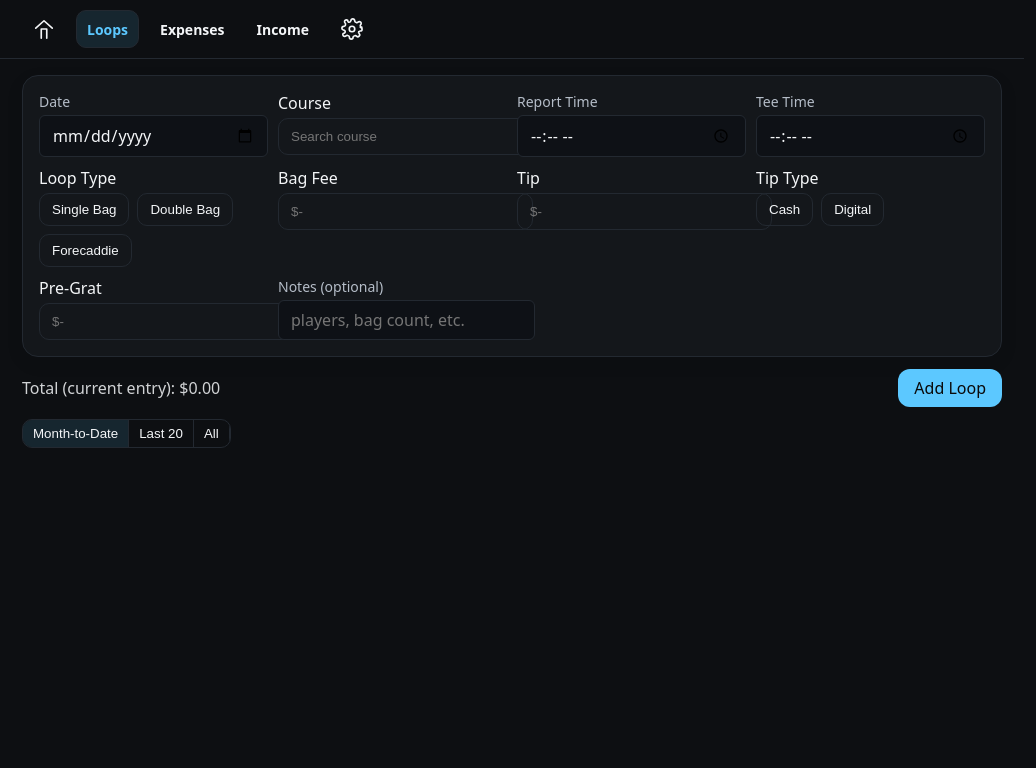
Test: Base UI contract › persists loops/expenses/income/settings
The width and height of the screenshot is (1036, 768).
Check: the button "Add Loop" is shown, box [898,369,1002,407]
Click the link "Expenses" at {"x": 192, "y": 29}, box [160,20,225,38]
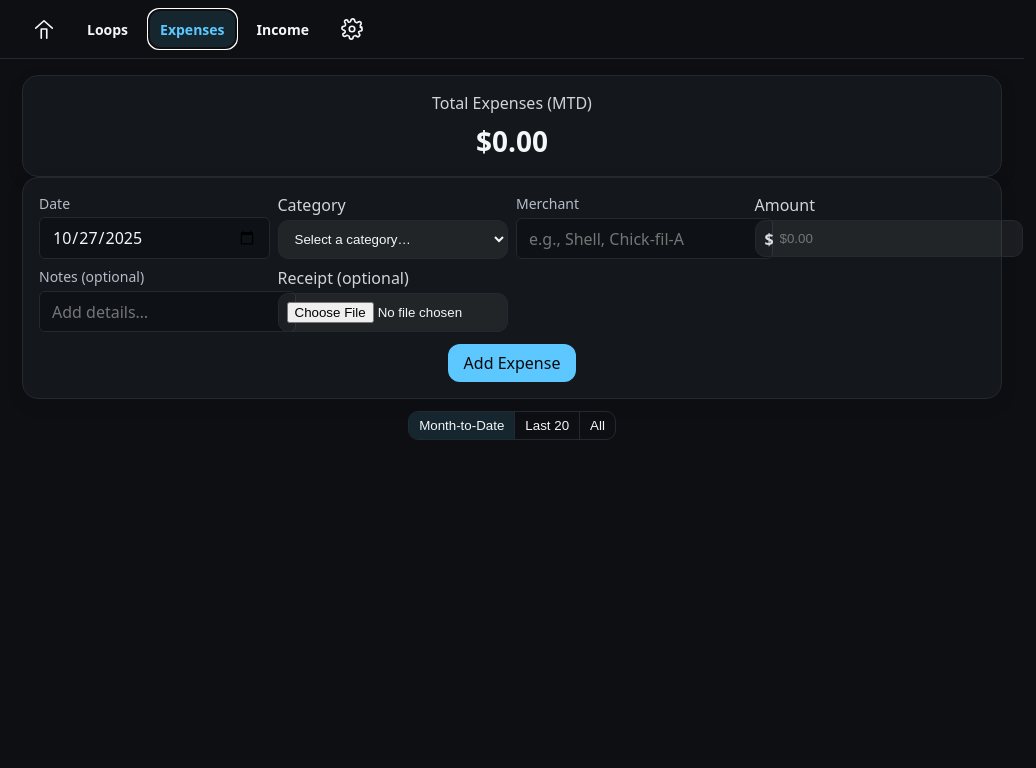
Check: the button "Add Expense" is shown, box [448,344,576,382]
Click the link "Income" at {"x": 283, "y": 29}, box [256,20,309,38]
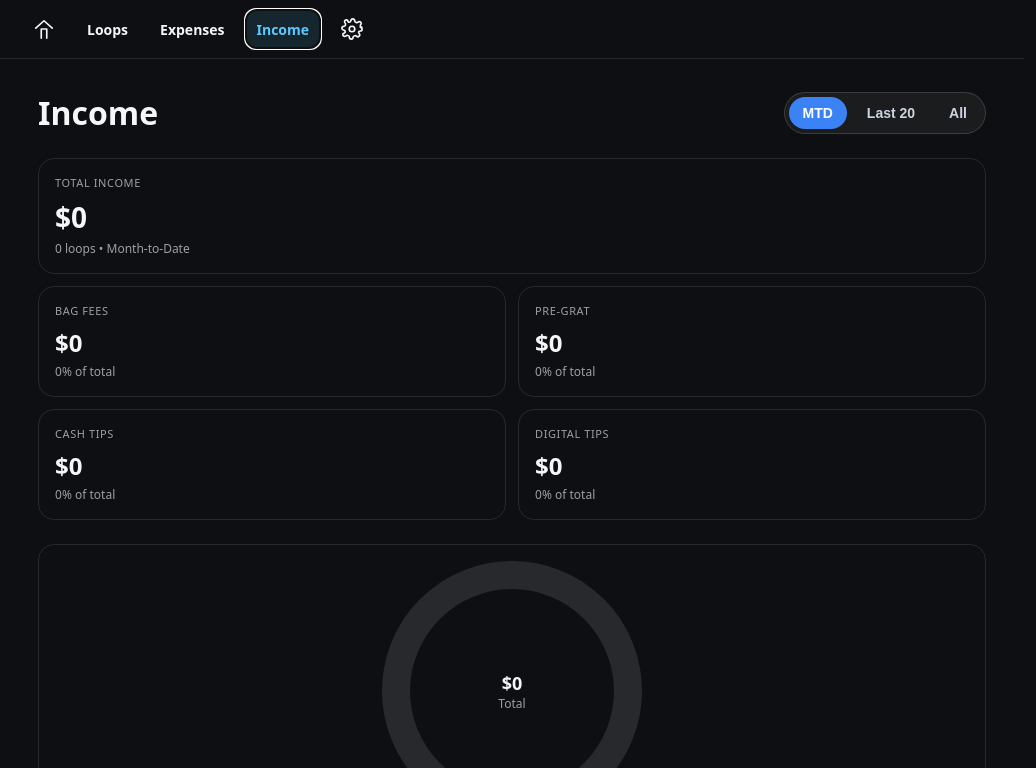
Check: the heading "Income" is shown, box [38,91,158,134]
Click the link named "settings" at {"x": 352, "y": 29}, box [341,18,363,40]
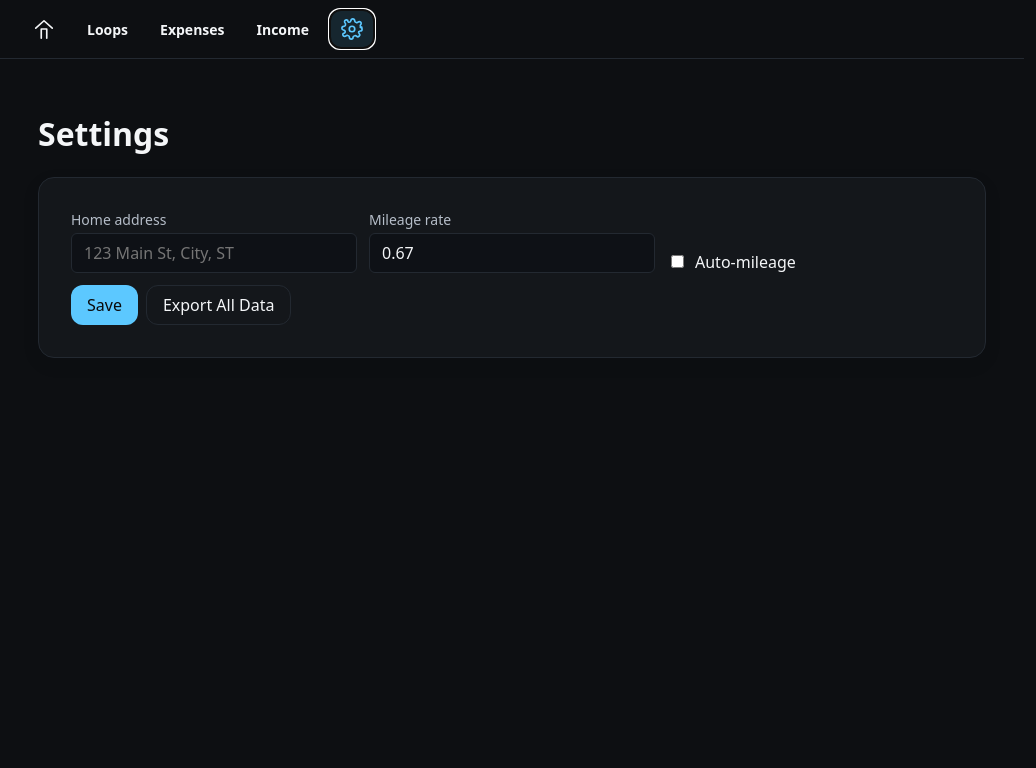
Check: the heading "Settings" is shown, box [38,112,169,155]
